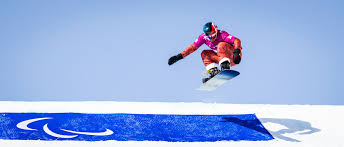snowboard: (197, 66, 239, 94)
